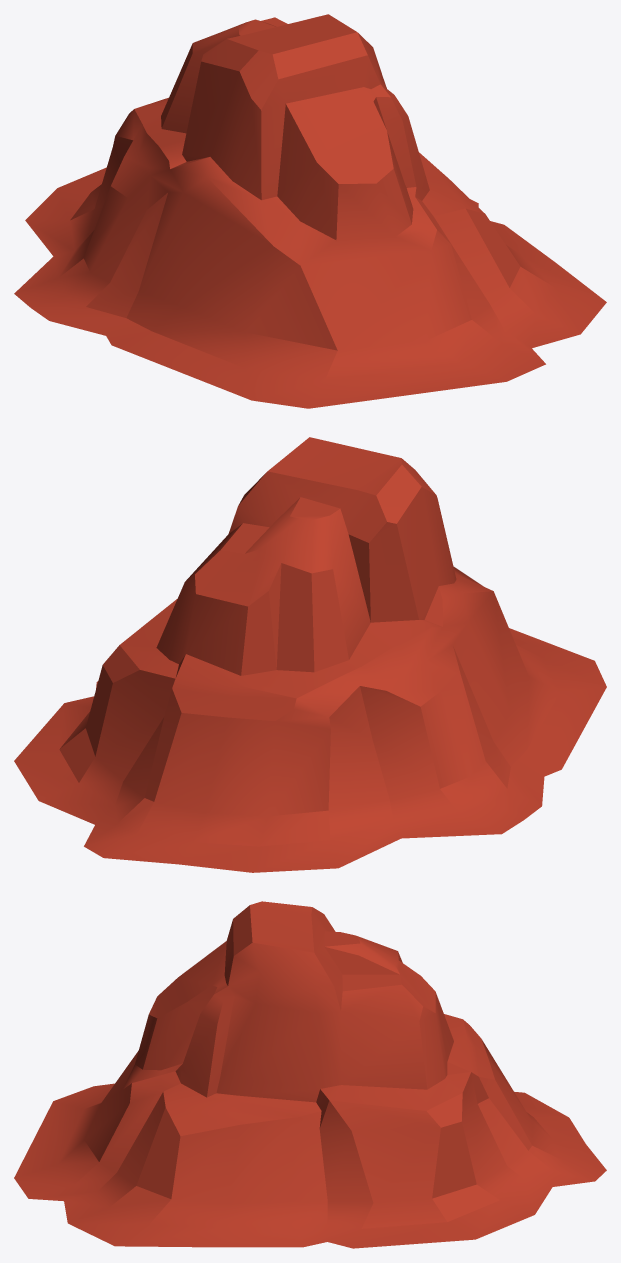
Rendered from SM_MediumRock.fbx.
3 views of the same model, one above another, from view 1: azimuth 30°, elevation 25°; view 2: azimuth 150°, elevation 25°; view 3: azimuth 270°, elevation 25° (orthographic). The views are drawn at different scales.
Parts seen in each view (by area): view 1: MediumRock_LOD0; view 2: MediumRock_LOD0; view 3: MediumRock_LOD0.
Part boxes in pixels (x1,y1,x2,y2): MediumRock_LOD0: (14, 14, 606, 408); MediumRock_LOD0: (14, 437, 606, 872); MediumRock_LOD0: (14, 901, 606, 1248).
Size of what is drawn, in the model's own units: 6.57 by 3.63 by 8.52.
